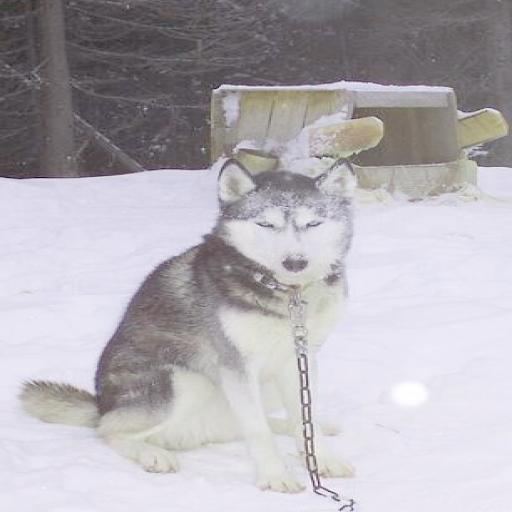dog_face: (224, 158, 353, 284)
